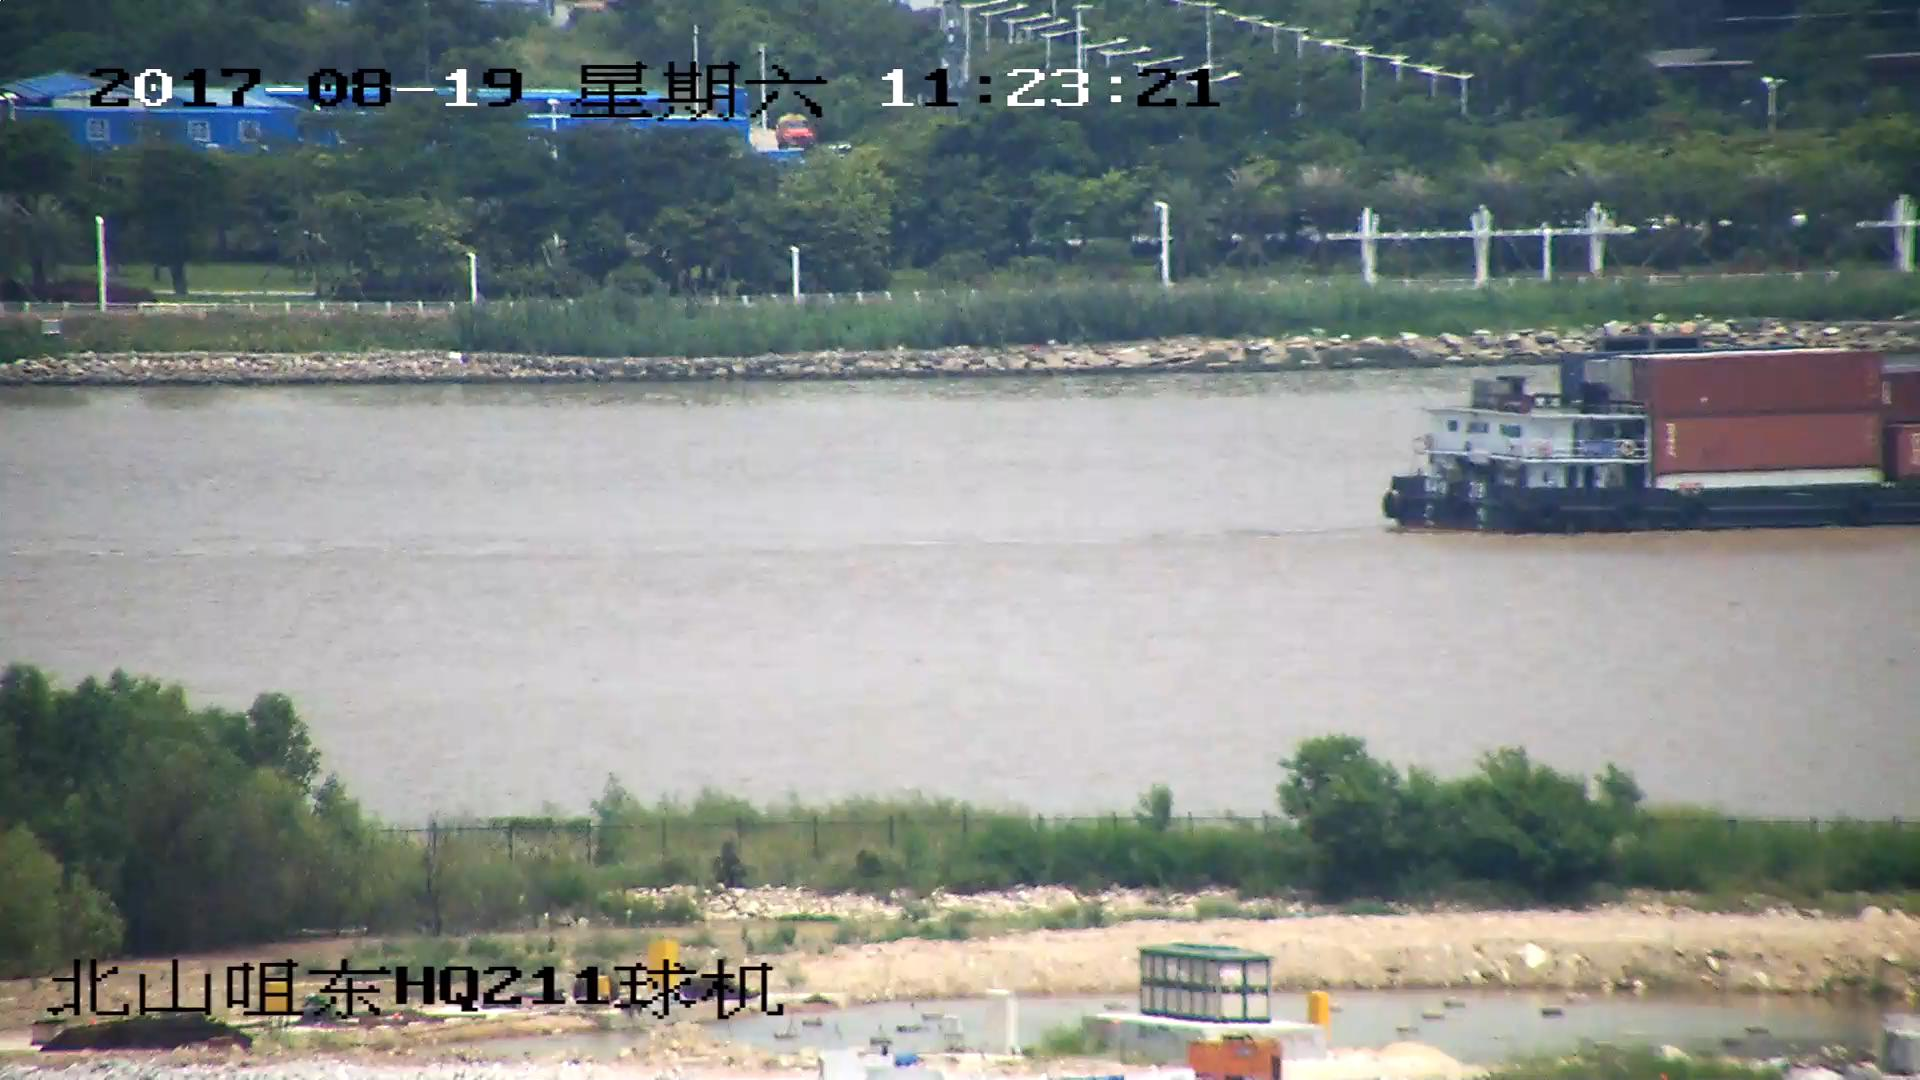container ship: (1388, 346, 1920, 529)
